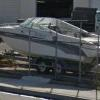Boat: (2, 11, 99, 71)
